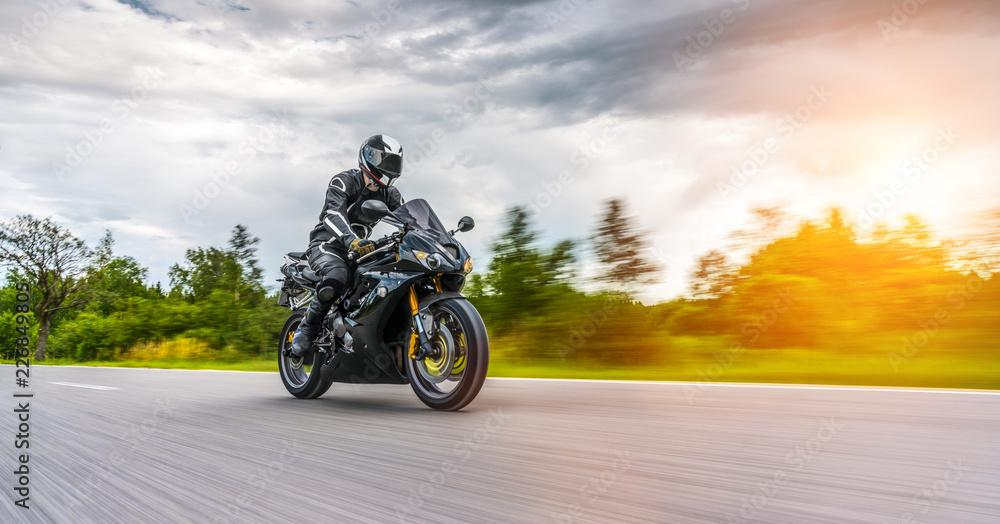helmet: (358, 134, 404, 189)
